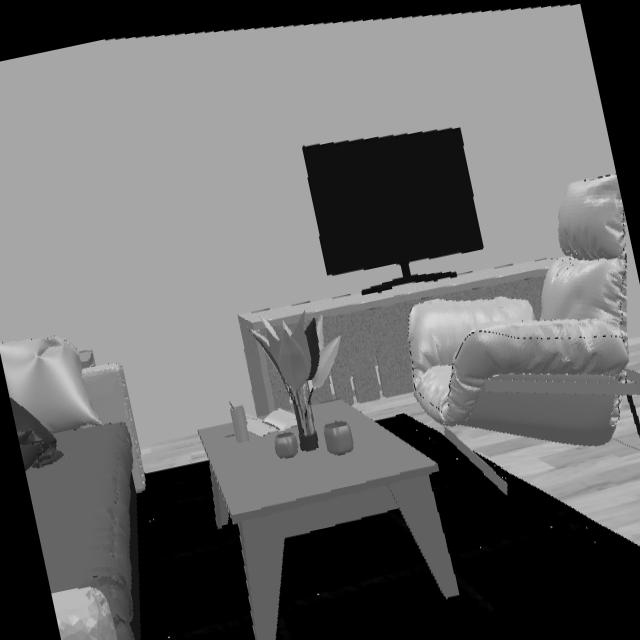monitor: (301, 127, 483, 278)
pillow: (0, 335, 103, 475)
sofa: (410, 178, 640, 448), (25, 363, 146, 640)
table: (199, 400, 463, 640)
